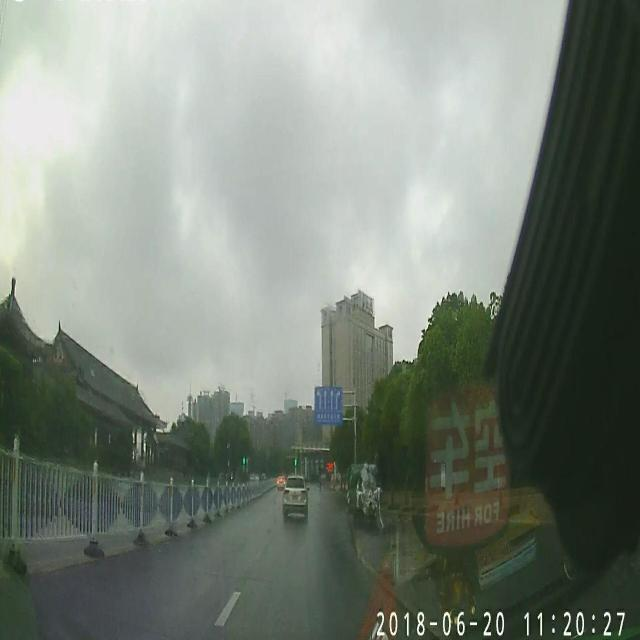car: (347, 463, 380, 523), (284, 474, 307, 517)
